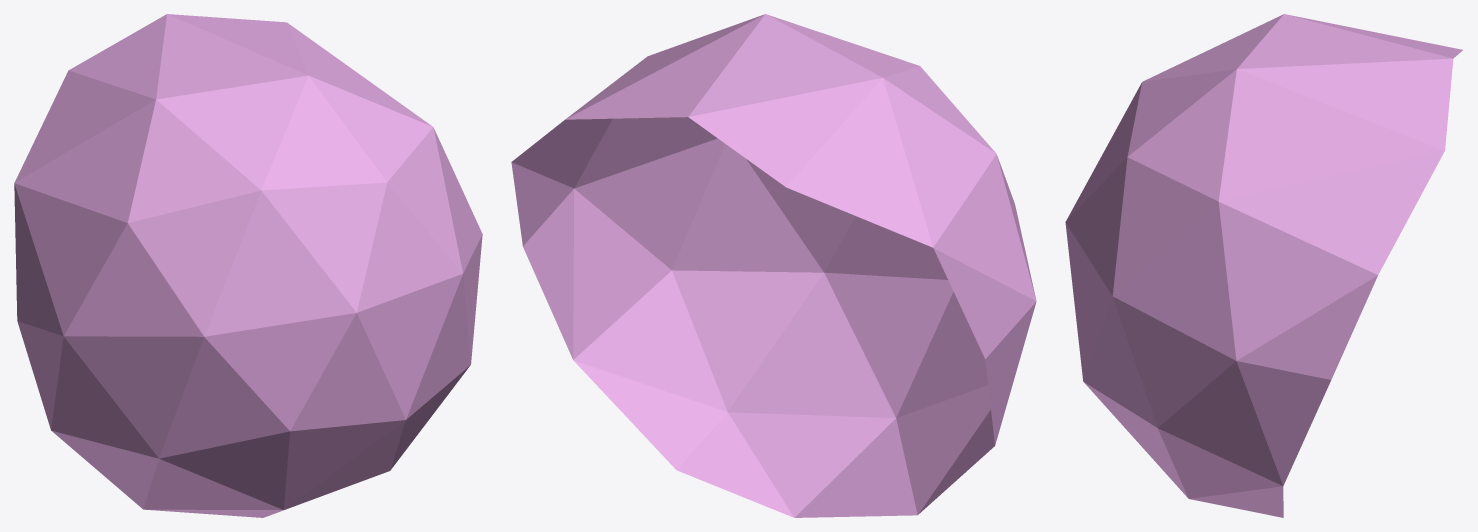
The model's file is shield.fbx.
3 views of the same model, side by side, from view 1: azimuth 30°, elevation 25°; view 2: azimuth 150°, elevation 25°; view 3: azimuth 270°, elevation 25° (orthographic). The views are drawn at different scales.
Parts seen in each view (by area): view 1: shield; view 2: shield; view 3: shield.
Part boxes in pixels (x1,y1,x2,y2): shield: (14,14,482,517); shield: (511,14,1036,517); shield: (1065,14,1462,517).
Bounding box in the file's own units: 441 × 443 × 355.
